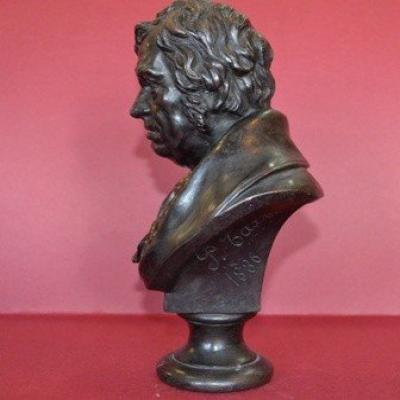sculpture: (132, 0, 325, 395)
